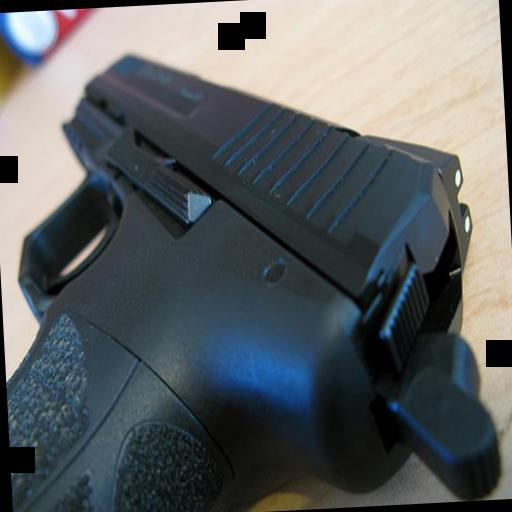Handgun: (0, 30, 501, 512)
